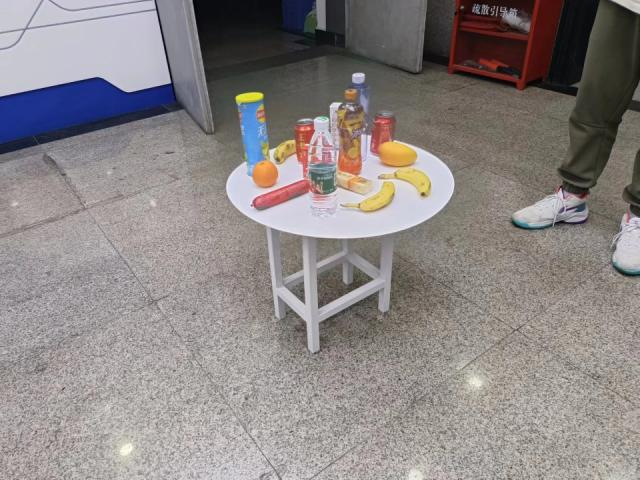Canned_drinks: (371, 108, 396, 156), (293, 118, 315, 162)
bottle: (307, 117, 338, 219), (350, 72, 370, 162)
cylinder: (236, 92, 274, 176)
drink_box: (330, 102, 347, 150), (302, 143, 313, 179)
